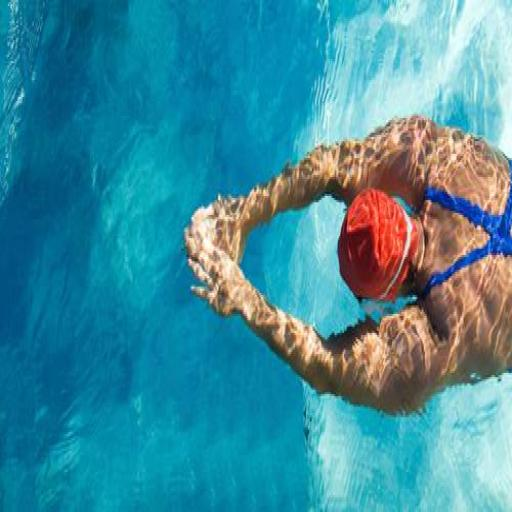swimming: (182, 110, 511, 419)
